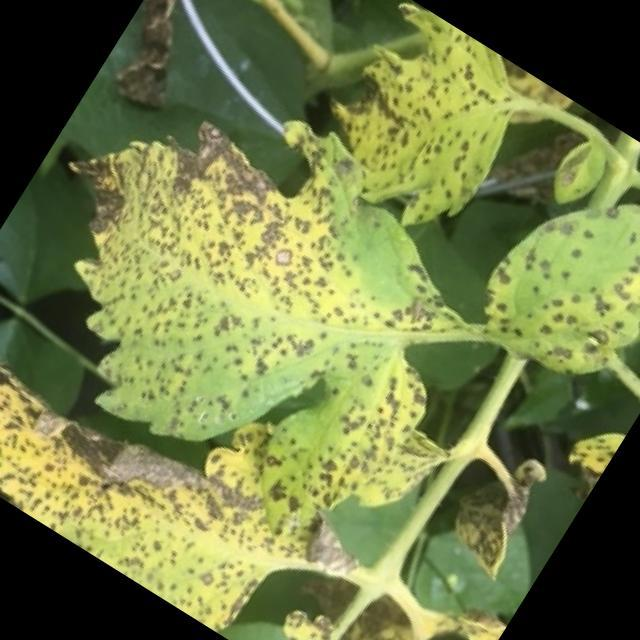Tomato bacterial spot leaf: (0, 25, 483, 538), (0, 247, 412, 640), (262, 0, 547, 265), (228, 308, 484, 582), (440, 138, 640, 431)
